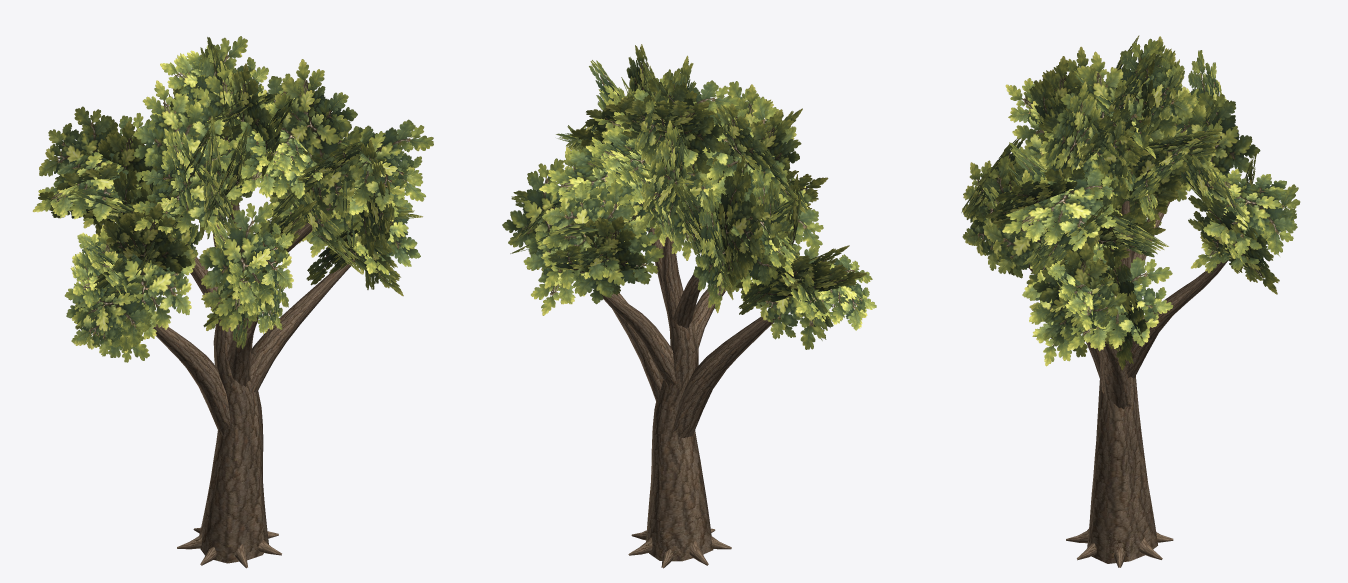
File: Cincis_Oak_1.glb
The picture shows the model from 3 angles, left to right: view 1: azimuth 30°, elevation 25°; view 2: azimuth 150°, elevation 25°; view 3: azimuth 270°, elevation 25°; orthographic projection. The views are drawn at different scales.
Parts seen in each view (by area): view 1: Foliage (×2), Trunk and branches (×2); view 2: Foliage (×2), Trunk and branches (×2); view 3: Foliage (×2), Trunk and branches (×2).
Boxes of the visible parts, x1,y1,x2,y2 form: Foliage (×2): [32, 36, 433, 362]; Trunk and branches (×2): [153, 201, 354, 568]; Foliage (×2): [502, 44, 876, 349]; Trunk and branches (×2): [602, 227, 775, 568]; Foliage (×2): [961, 35, 1300, 370]; Trunk and branches (×2): [987, 199, 1227, 567].
Size of the model in its own units: 7.06 by 8.86 by 6.19.
2 materials, 2 textured.
